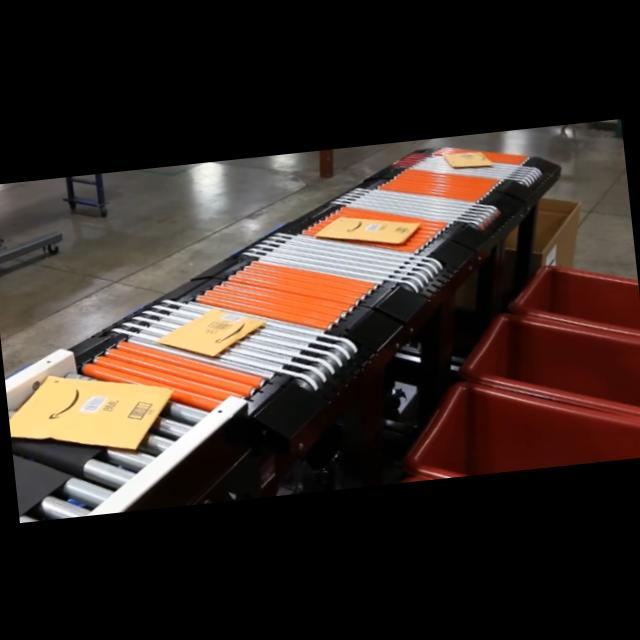mailer: (5, 362, 178, 462), (153, 302, 270, 362), (314, 207, 422, 252), (442, 149, 492, 171)
